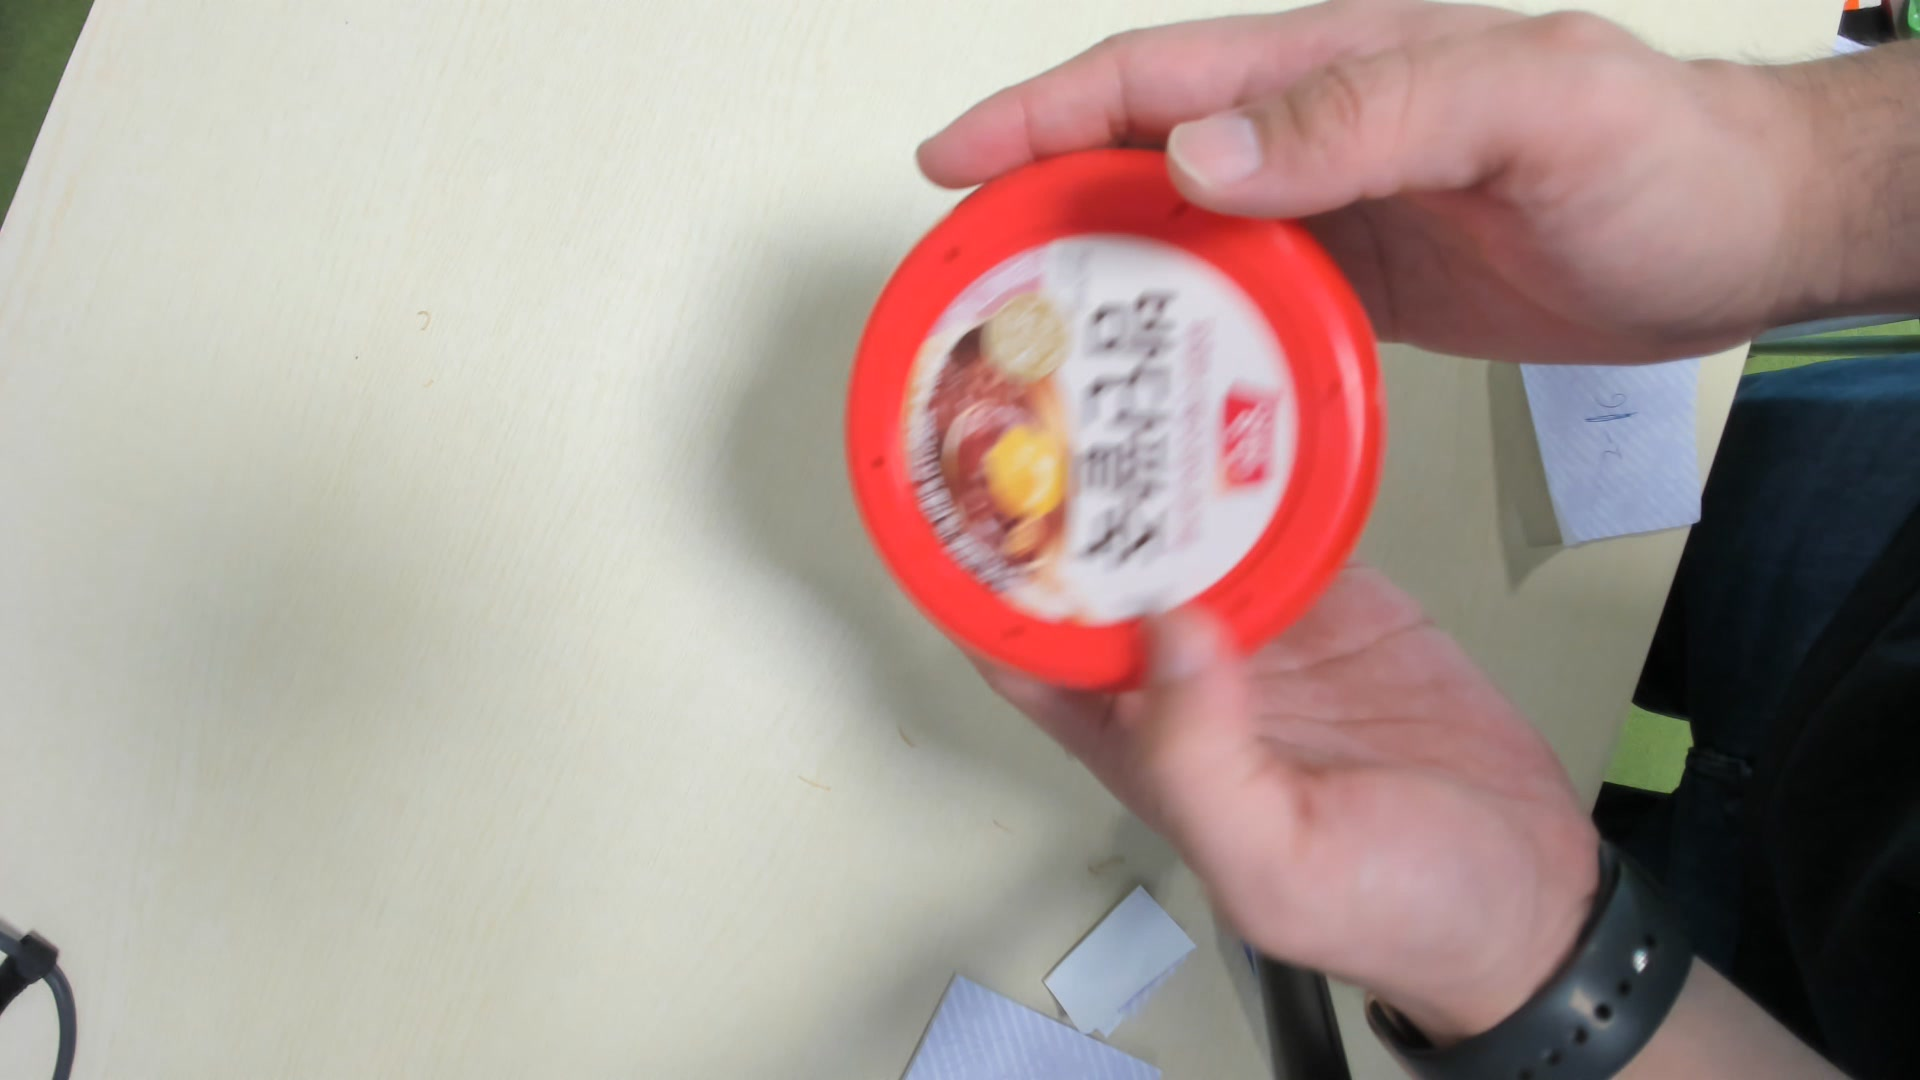InstantMeals_200_299g_NonHalal_NonHealthy: (847, 146, 1375, 715)
